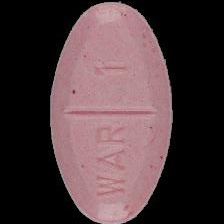68382-052: (0, 0, 224, 224)
